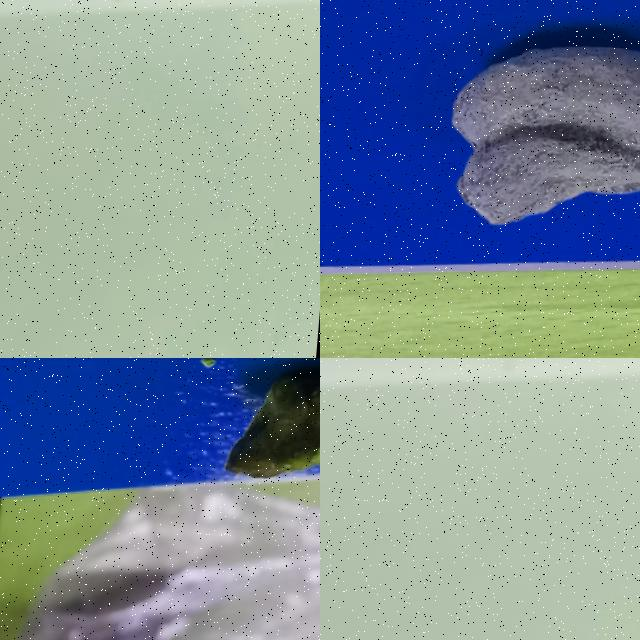Agglomerated_cocoabeans: (423, 3, 639, 263)
Flat_cocoabeans: (166, 358, 319, 522)
